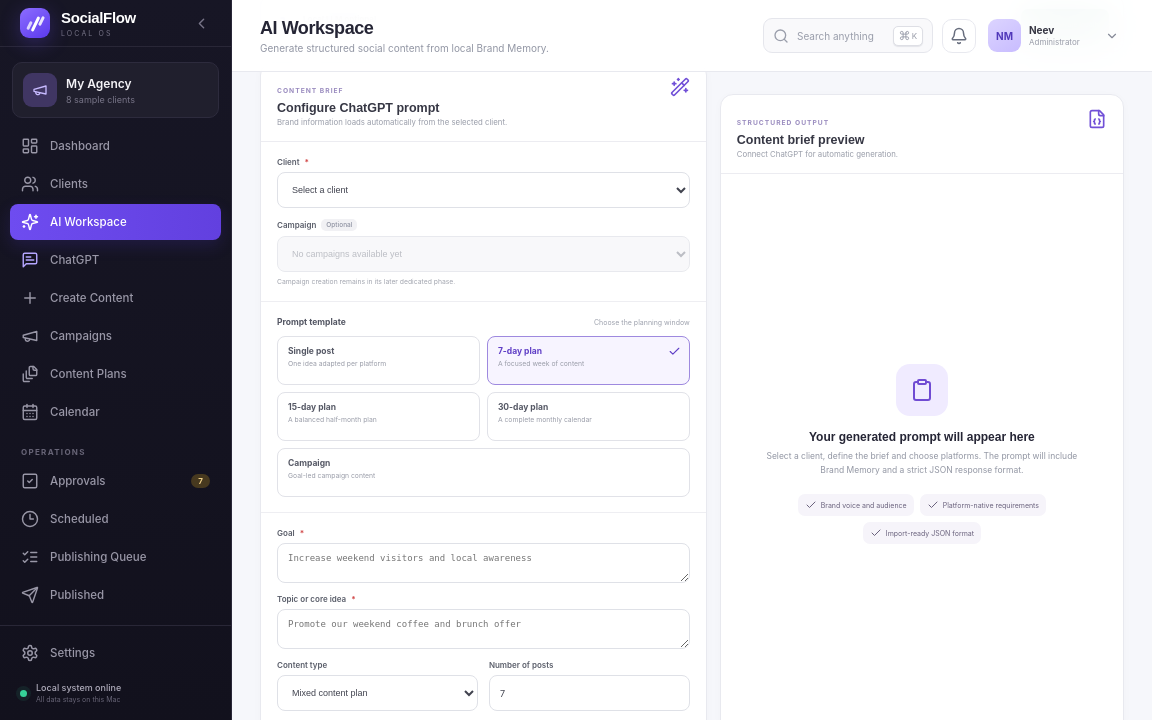
Phase 3 AI Workspace › applies the selected planning template
(page scrolled)
What coordinates should you click on to do the following:
click the button "Single post One idea adapted per platform"
I would click on:
 (378, 360)
Its box is [277,336,480,385].
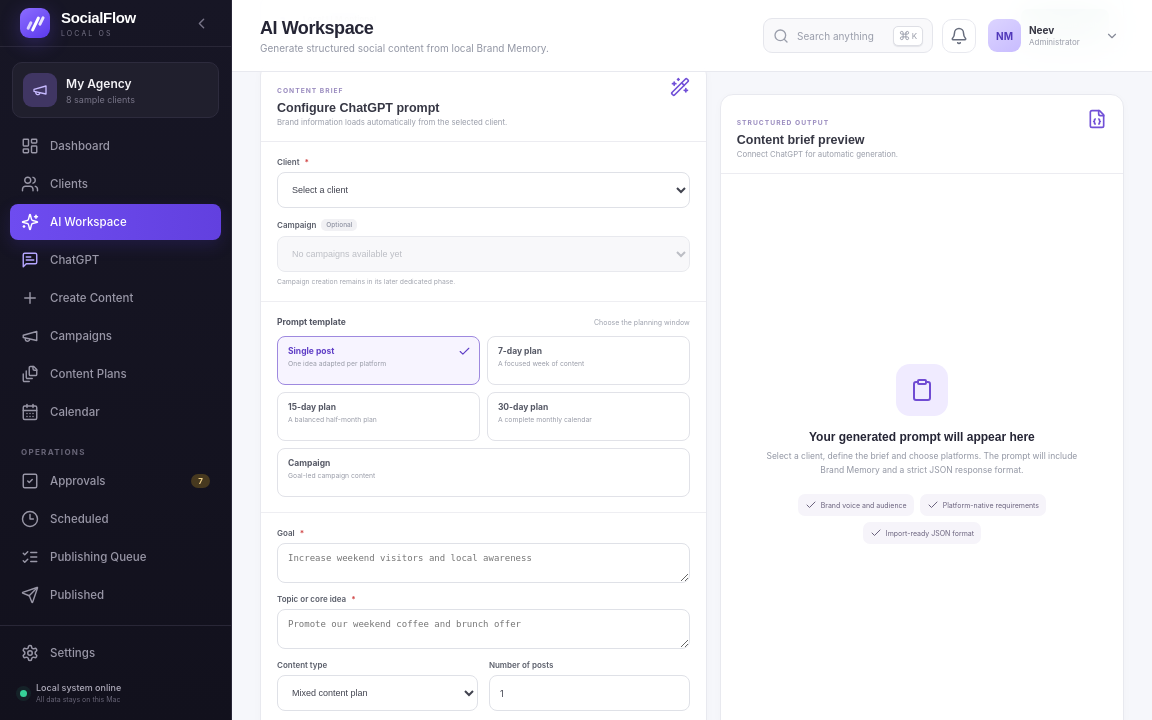
Expected: the number field labelled "Number of posts" holds "1", [489,675,690,711]
What coordinates should you click on to do the following:
click the button "30-day plan A complete monthly calendar"
I would click on:
 (588, 416)
Its box is [487,392,690,441].
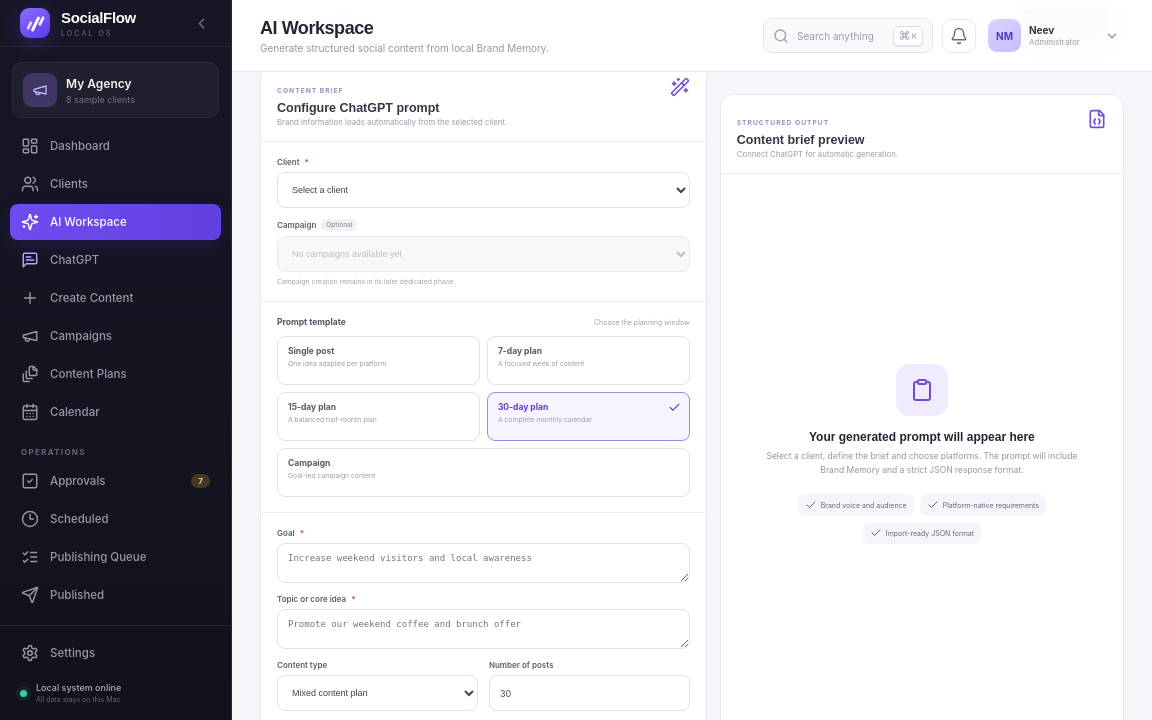
Expected: the number field labelled "Number of posts" holds "30", [489,675,690,711]
